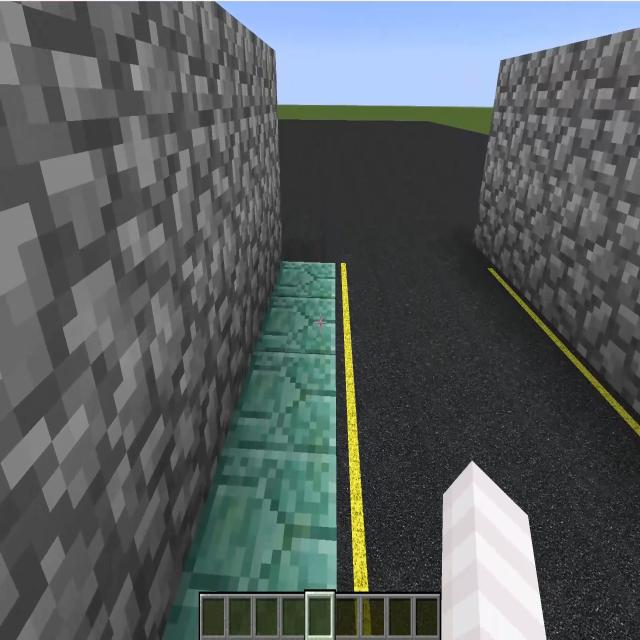road: (279, 122, 640, 639)
sidewalk: (165, 263, 336, 638)
